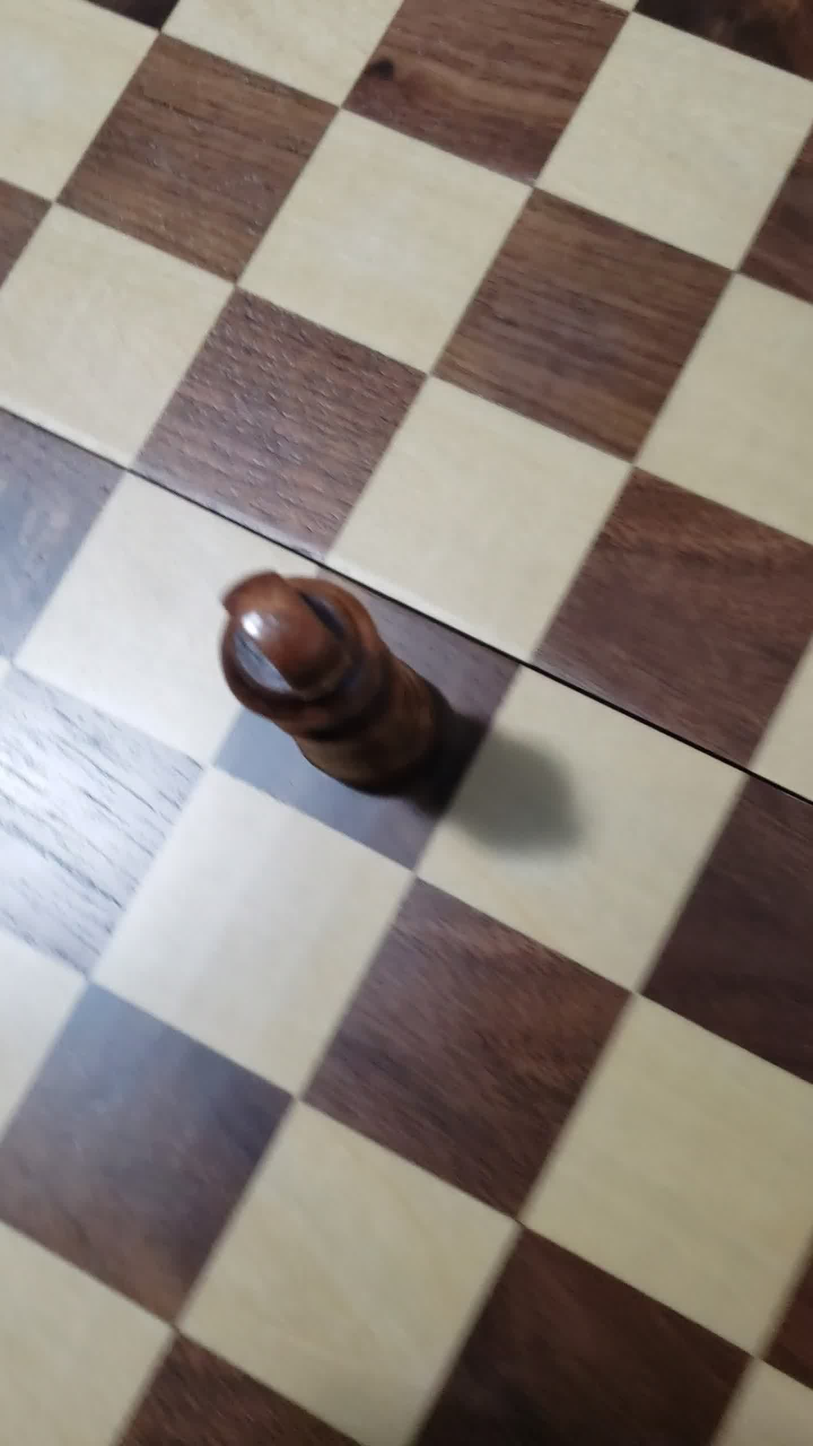black-king: (178, 554, 507, 834)
